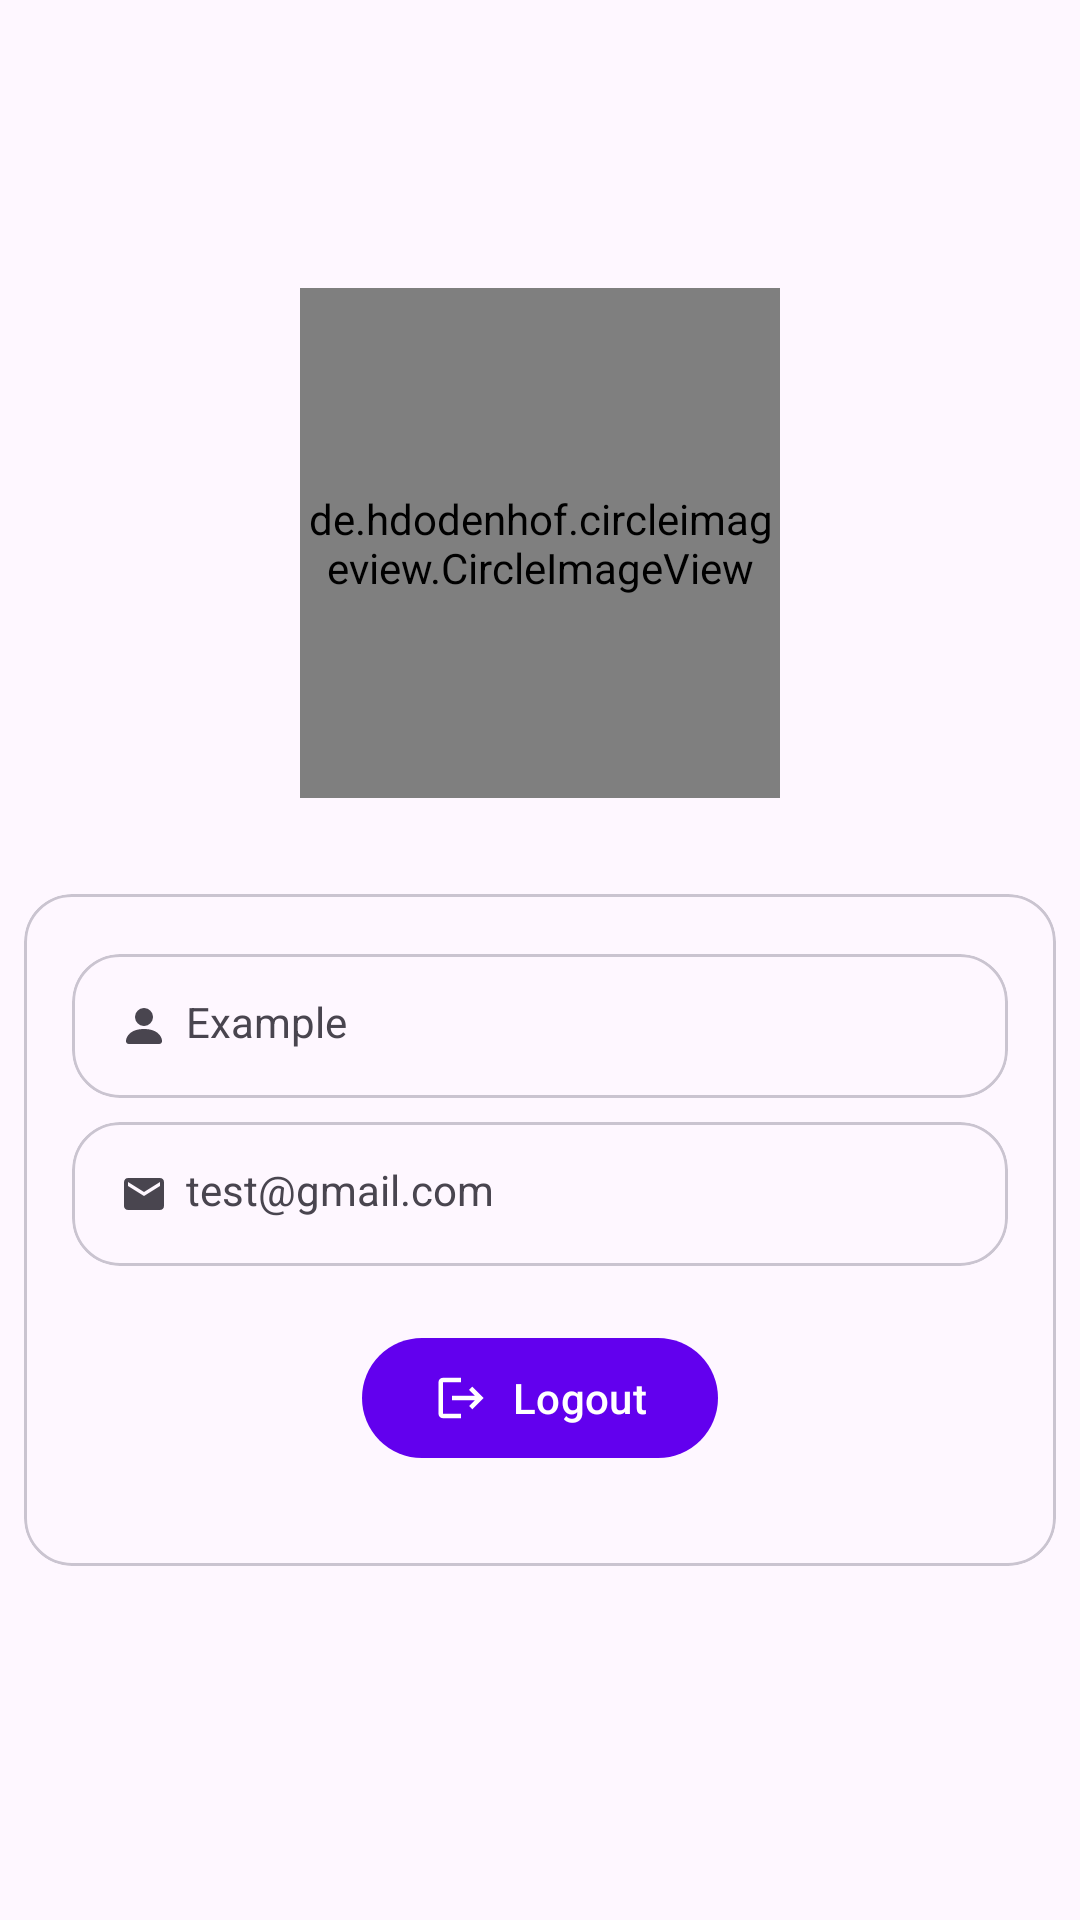

Point at icon controls on the screen. Image size 1080 × 1920, points as point (x, y).
email: point (144, 1194)
profile user: point (144, 1026)
